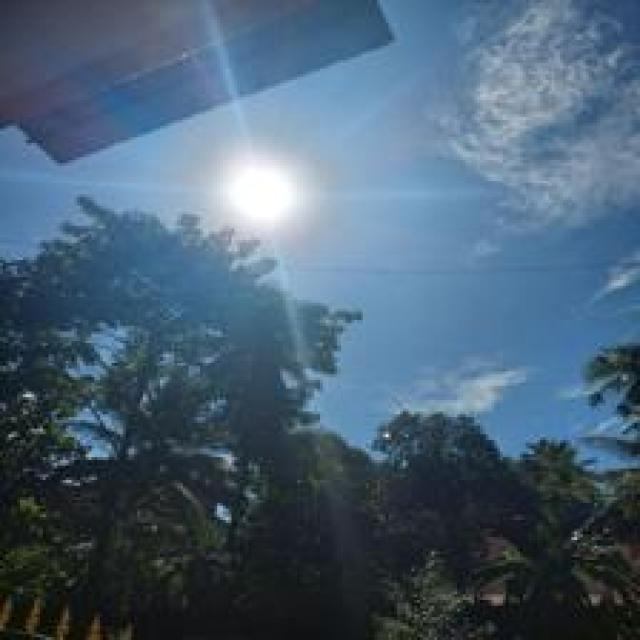sun: (221, 155, 302, 232), (229, 168, 291, 221)
